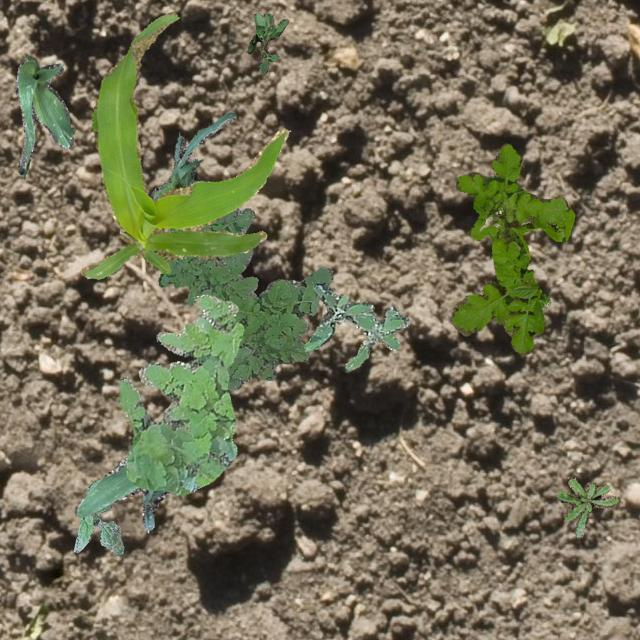crop: (79, 10, 289, 278), (148, 110, 234, 200), (14, 52, 74, 178), (74, 456, 168, 532)
weed: (158, 208, 332, 390), (449, 142, 574, 354), (116, 292, 242, 494), (302, 280, 408, 370), (72, 480, 122, 554), (556, 476, 616, 536), (245, 12, 288, 74)
